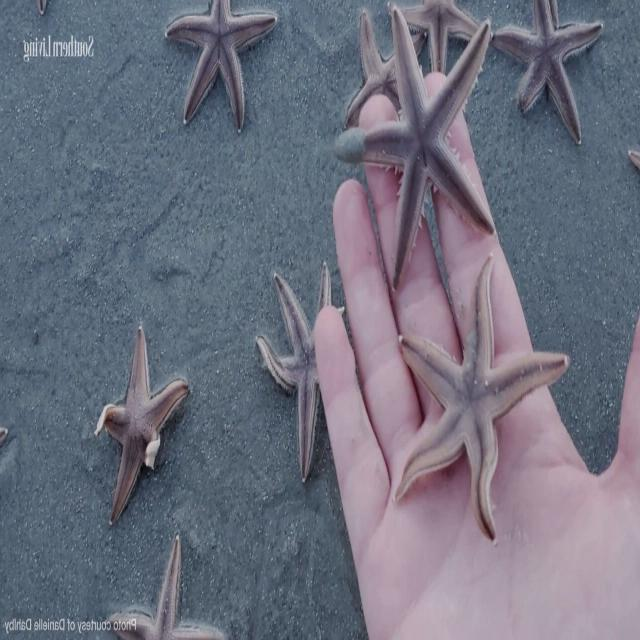starfish: (395, 255, 569, 540), (336, 7, 494, 284), (95, 325, 190, 523), (492, 0, 602, 144), (166, 0, 277, 131), (104, 535, 226, 639), (400, 0, 480, 70)
